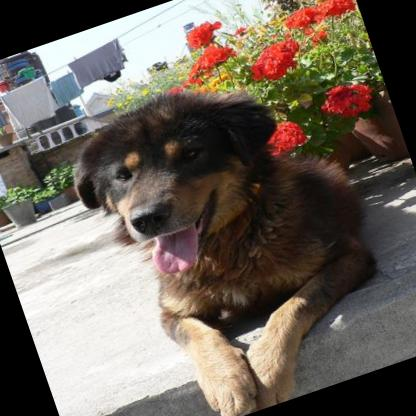Tibetan_mastiff: (51, 44, 410, 416)
